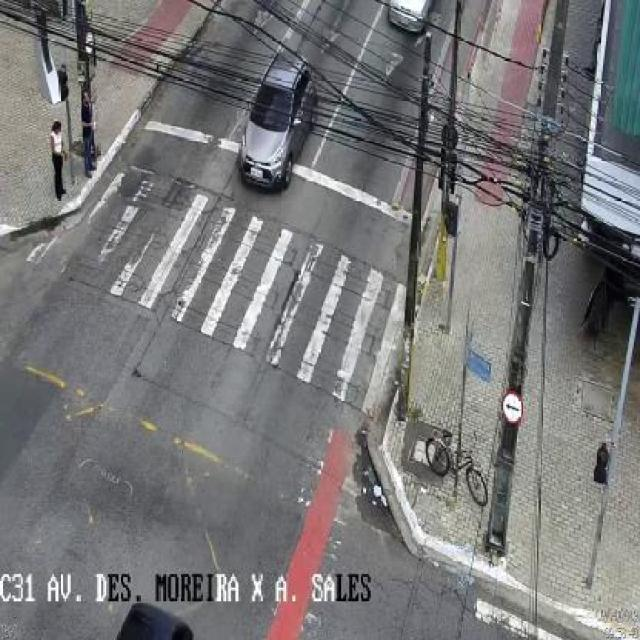Car: (235, 51, 318, 196)
Cycle: (422, 426, 494, 507)
